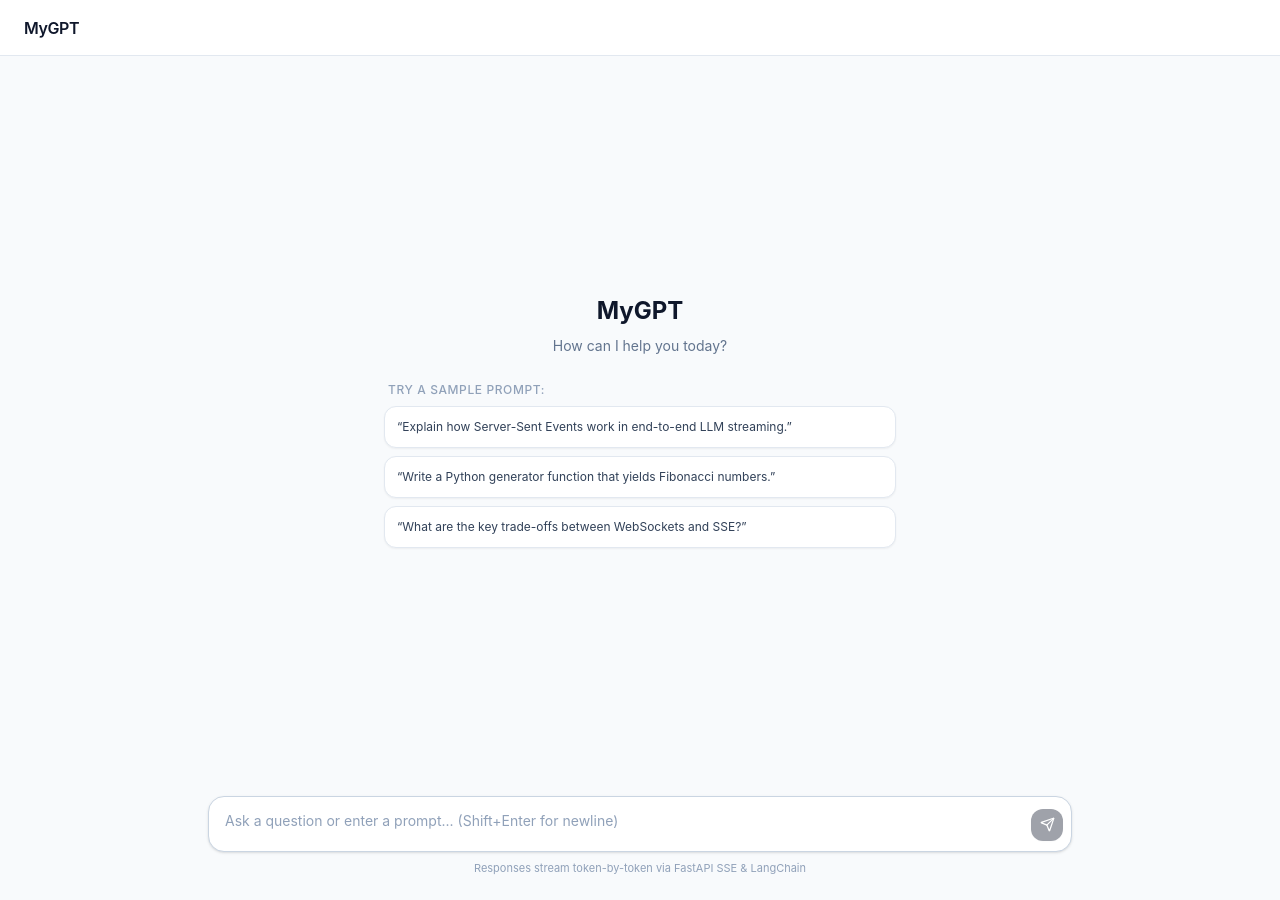
Test case: ChatInterface Component › displays safe error banner without marking assistant response complete
Replace the text in the text box with test id "chat-input-textarea" with "Test error" at (640, 820), box [209, 796, 1071, 844]
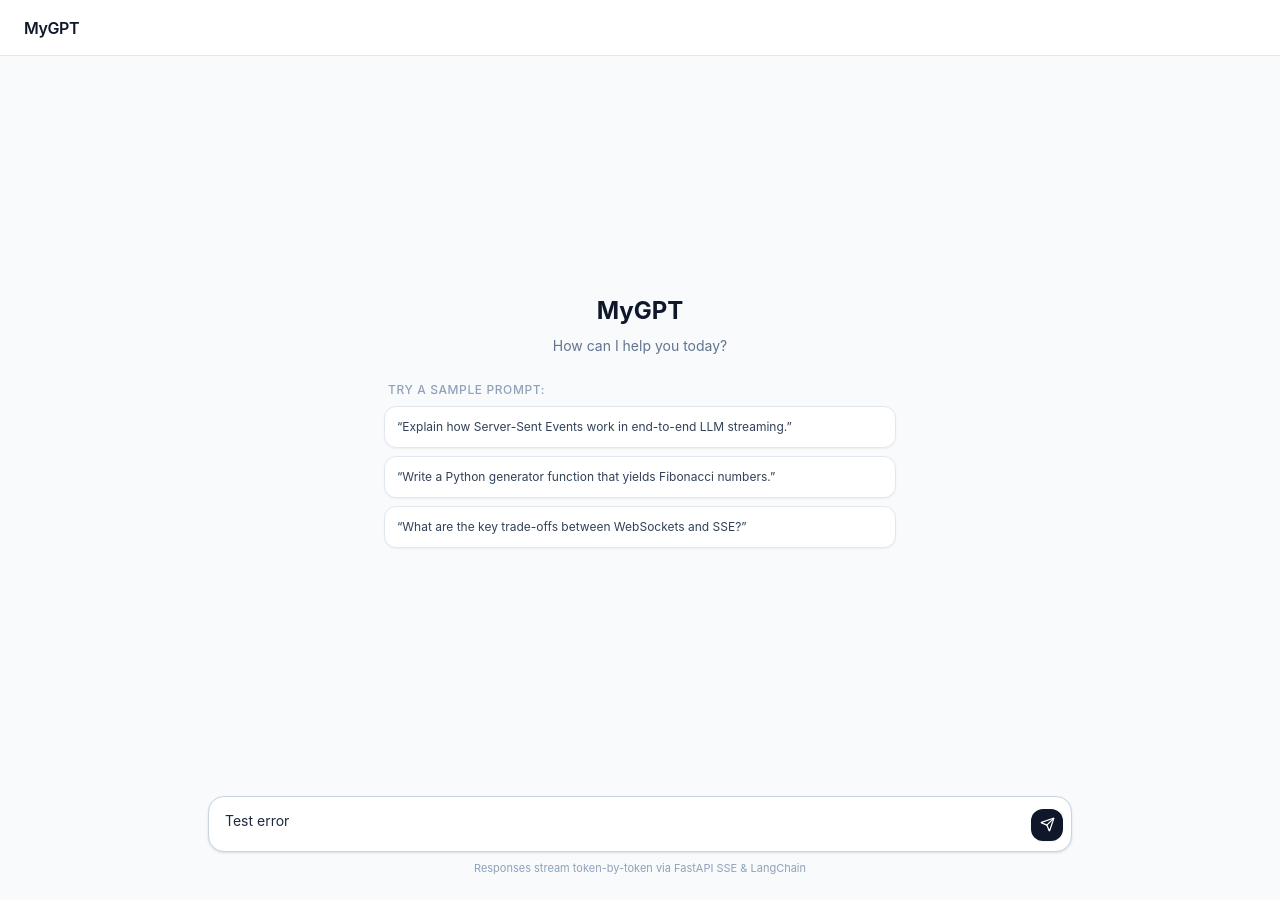
Click the button with test id "send-message-button" at (1047, 824), box [1031, 808, 1063, 840]
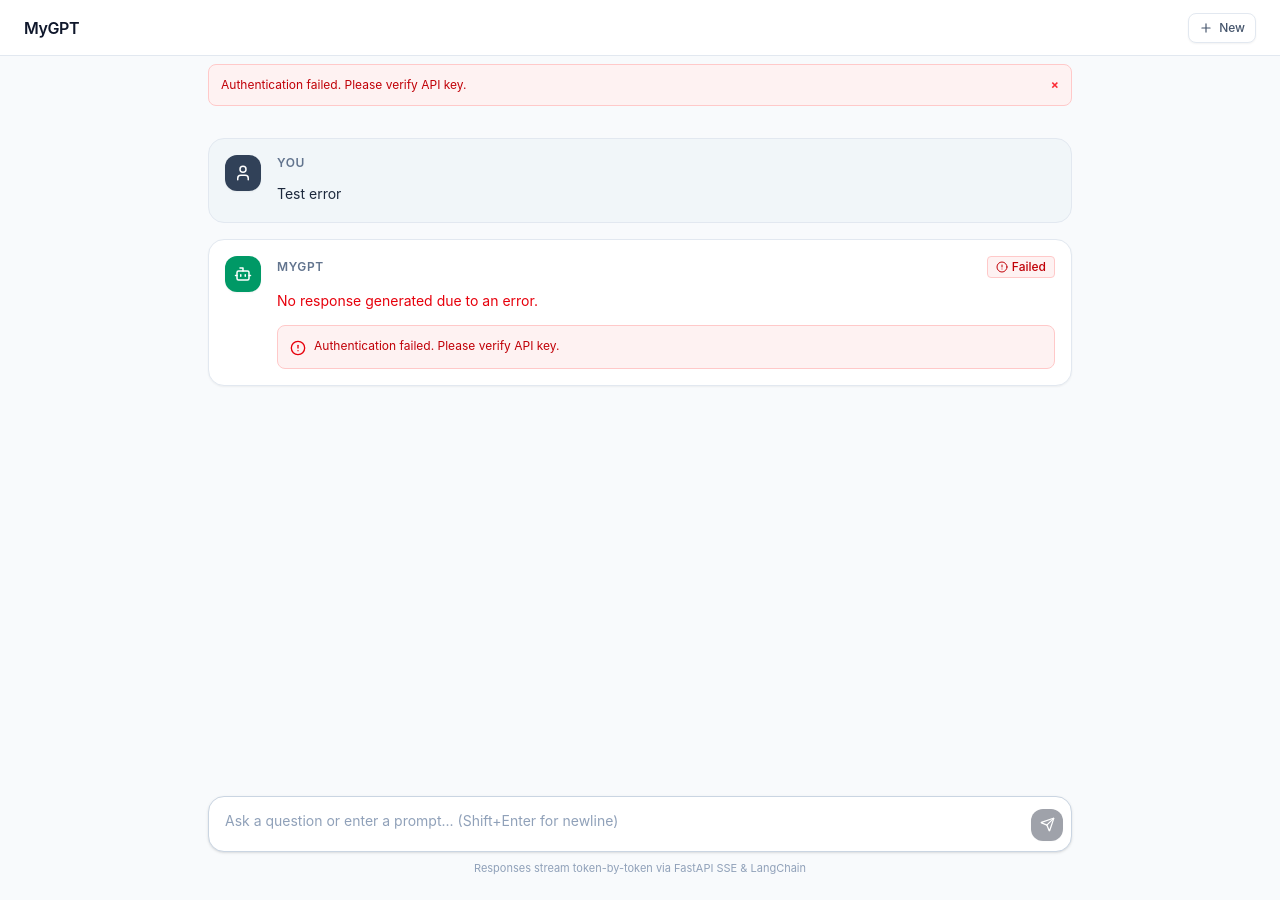
Expected: the element with test id "global-error-banner" is shown, [192, 64, 1088, 106]
Expected: the element with test id "message-error-banner" is shown, [277, 324, 1055, 368]
Expected: the text "Failed" is shown, [987, 256, 1055, 278]
